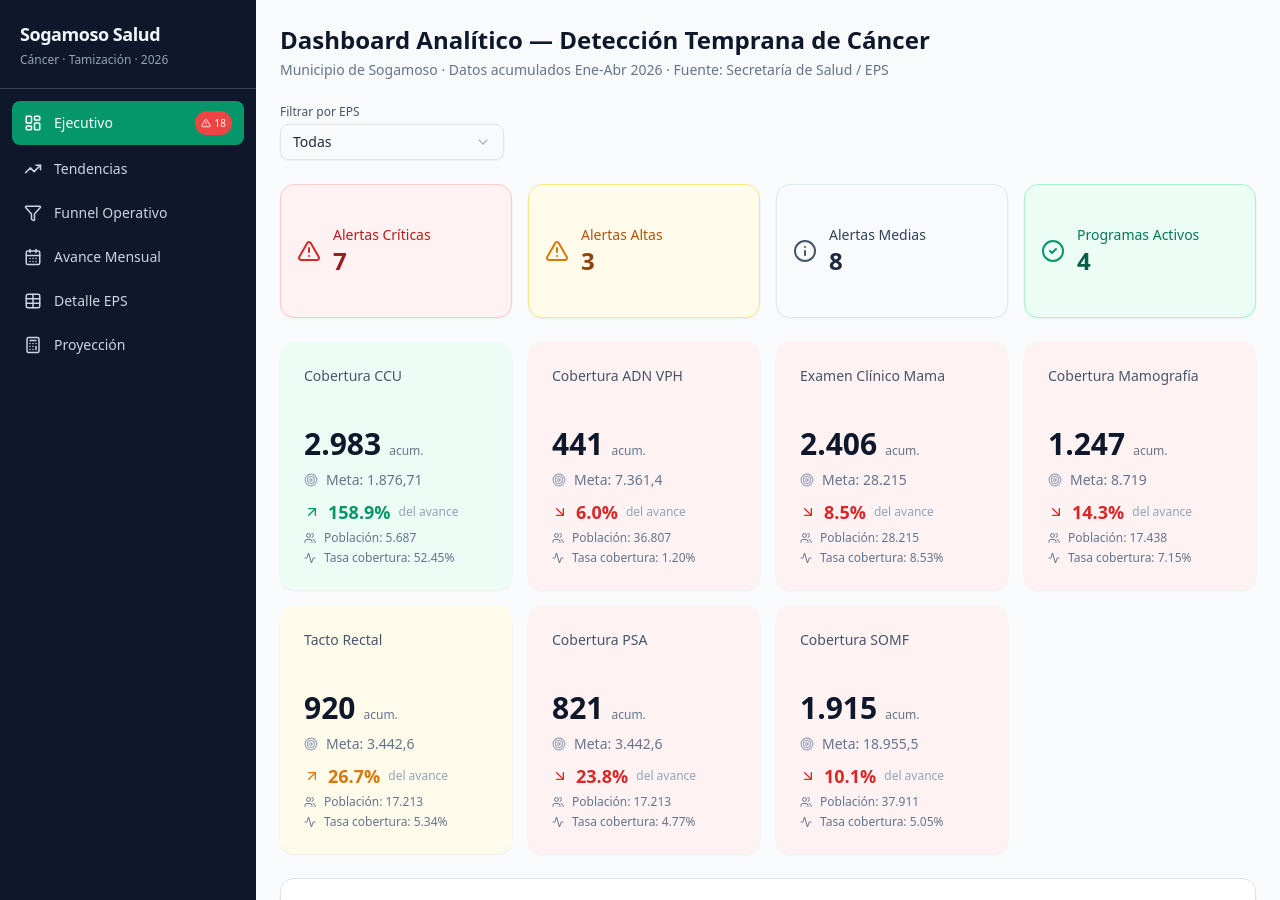
Home › cambia de vista al hacer click en el sidebar
Click the button "Tendencias". click: [128, 169]
box: [12,149,244,189]
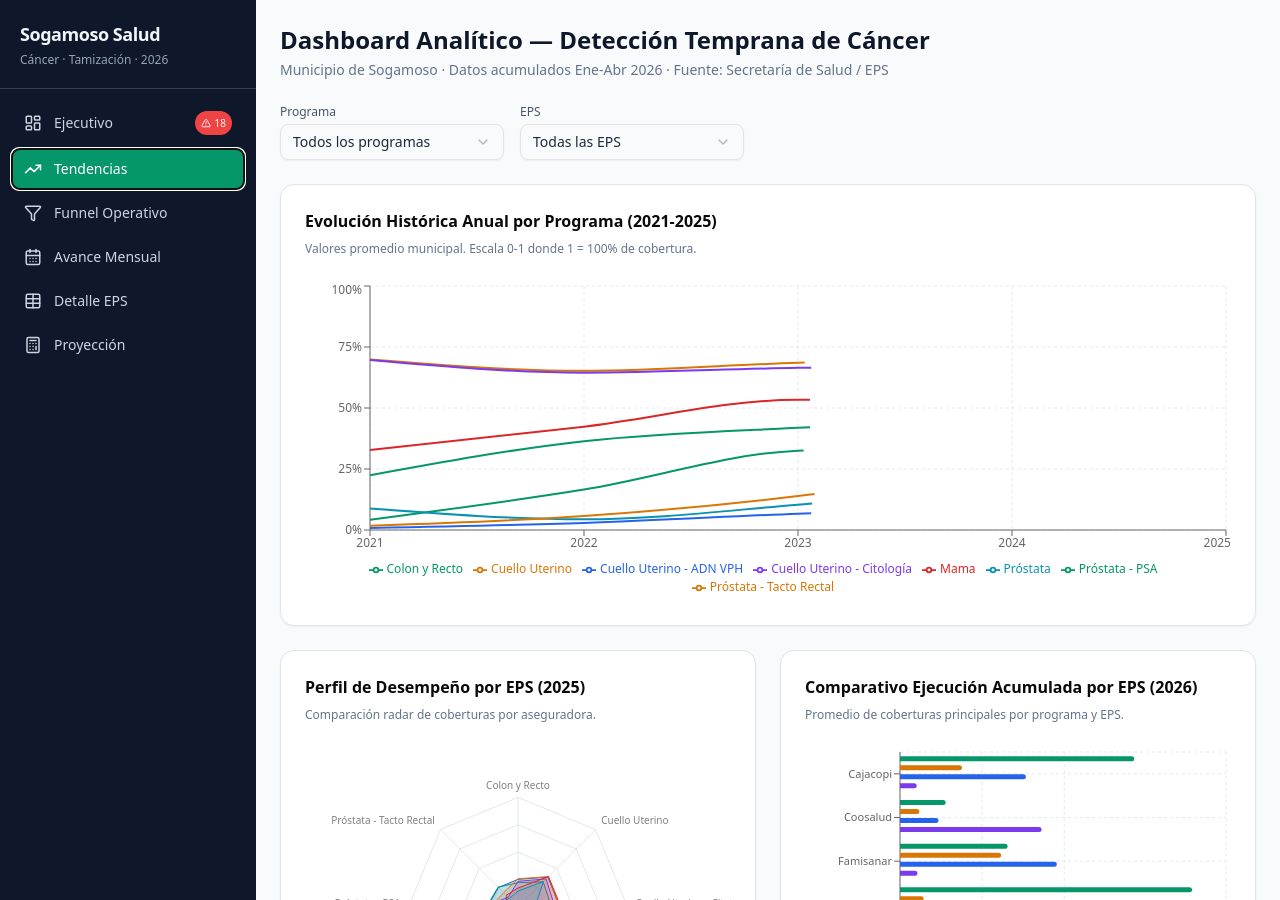
Check: the text "Alertas Críticas" is gone
Check: the text "Evolución Histórica Anual por Programa (2021-2025)" is shown, box [305,210,717,232]
